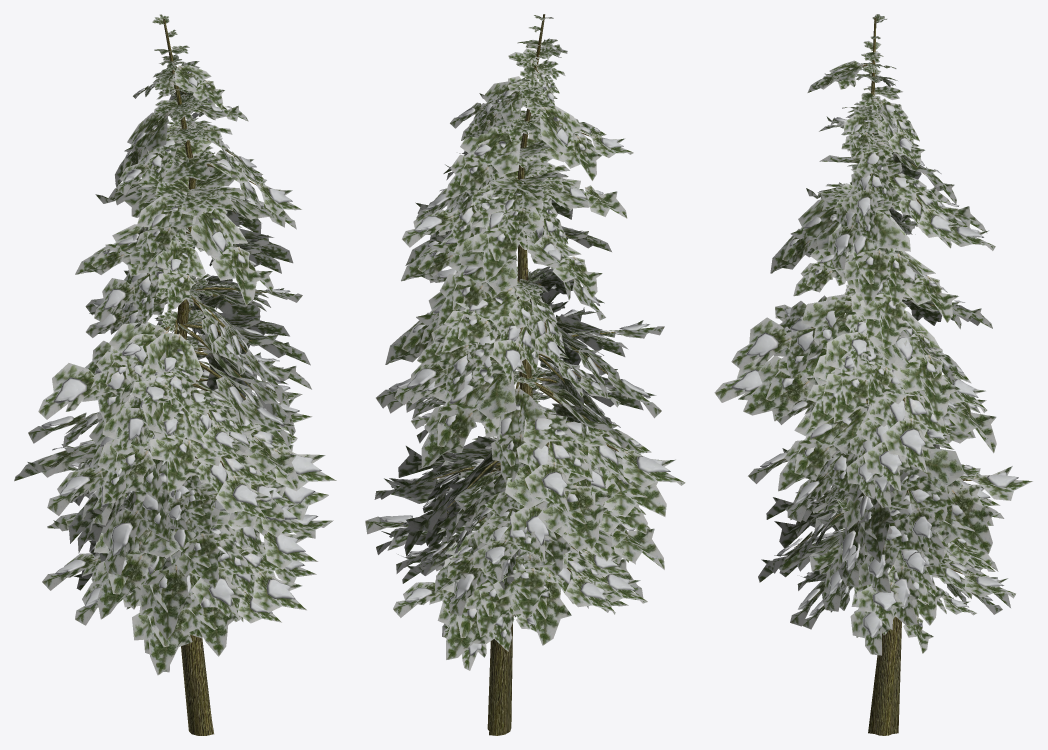
File: vegetation-prototypes.glb
The picture shows the model from 3 angles, left to right: view 1: azimuth 30°, elevation 25°; view 2: azimuth 150°, elevation 25°; view 3: azimuth 270°, elevation 25°; orthographic projection. The views are drawn at different scales.
Visible parts, largest first — view 1: Circle.003; view 2: Circle.003; view 3: Circle.003.
Boxes of the visible parts, x1,y1,x2,y2 form: Circle.003: [14, 14, 336, 735]; Circle.003: [365, 14, 685, 735]; Circle.003: [714, 14, 1032, 735].
Size of the model in its own units: 2.08 by 4.73 by 1.97.
5 materials, 5 textured.
